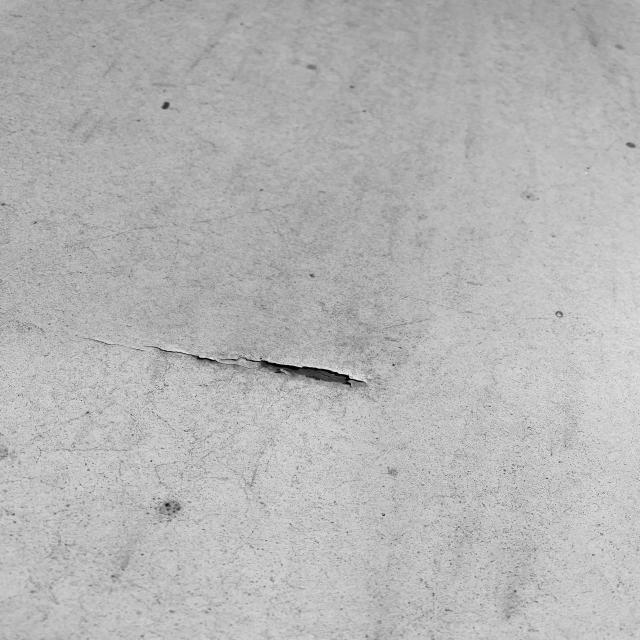crack: (185, 345, 357, 395)
